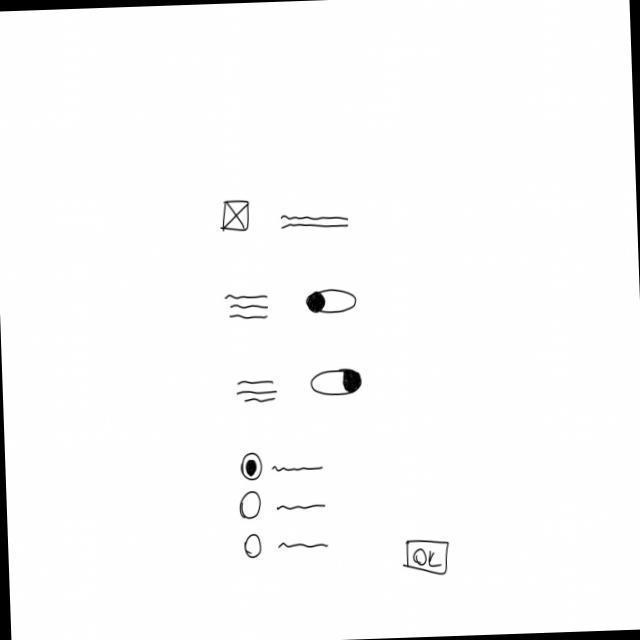button: (404, 536, 452, 578)
image: (220, 199, 252, 234)
radio: (242, 450, 267, 485), (241, 492, 264, 524), (245, 534, 264, 563)
textbox: (280, 211, 350, 234), (224, 292, 272, 324), (235, 378, 279, 407)
toggle: (309, 367, 365, 398), (306, 286, 359, 317)
